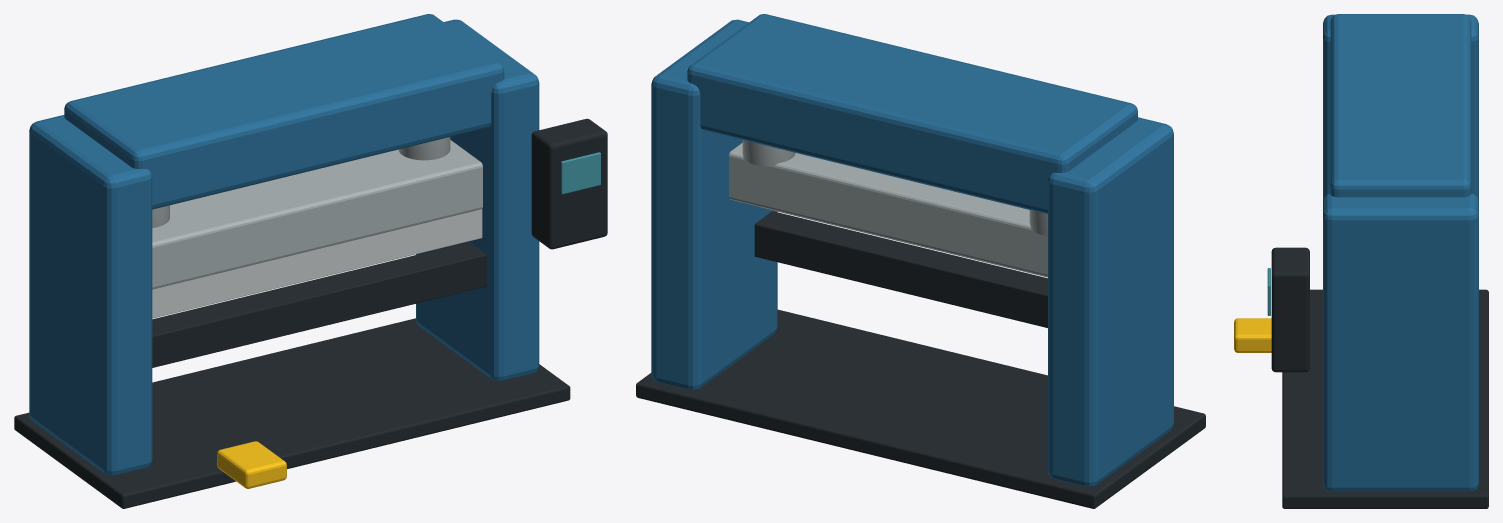
Rendered from cnc_press_brake.glb.
3 views of the same model, side by side, from view 1: azimuth 30°, elevation 25°; view 2: azimuth 150°, elevation 25°; view 3: azimuth 270°, elevation 25° (orthographic). The views are drawn at different scales.
Visible parts, largest first — view 1: UPPER_BEAM, MACHINE_BASE, LEFT_SIDE_FRAME, KIN_PRESS_BEAM, RIGHT_SIDE_FRAME, LOWER_DIE, UPPER_PUNCH, CNC_CONTROL, FOOT_PEDAL, CNC_SCREEN, HYDRAULIC_CYLINDER_1.0; view 2: UPPER_BEAM, MACHINE_BASE, LEFT_SIDE_FRAME, RIGHT_SIDE_FRAME, KIN_PRESS_BEAM, LOWER_DIE, HYDRAULIC_CYLINDER_1.0; view 3: RIGHT_SIDE_FRAME, UPPER_BEAM, MACHINE_BASE, CNC_CONTROL, LEFT_SIDE_FRAME, FOOT_PEDAL.
Boxes of the visible parts, x1=… form: UPPER_BEAM: x1=64, y1=14, x2=504, y2=209; MACHINE_BASE: x1=14, y1=318, x2=570, y2=508; LEFT_SIDE_FRAME: x1=29, y1=115, x2=152, y2=475; KIN_PRESS_BEAM: x1=152, y1=140, x2=482, y2=289; RIGHT_SIDE_FRAME: x1=416, y1=19, x2=539, y2=381; LOWER_DIE: x1=152, y1=242, x2=486, y2=367; UPPER_PUNCH: x1=152, y1=209, x2=482, y2=318; CNC_CONTROL: x1=531, y1=118, x2=607, y2=249; FOOT_PEDAL: x1=217, y1=441, x2=286, y2=488; CNC_SCREEN: x1=561, y1=152, x2=600, y2=194; HYDRAULIC_CYLINDER_1.0: x1=398, y1=137, x2=450, y2=160; UPPER_BEAM: x1=687, y1=14, x2=1137, y2=214; MACHINE_BASE: x1=636, y1=309, x2=1205, y2=508; LEFT_SIDE_FRAME: x1=1048, y1=117, x2=1173, y2=486; RIGHT_SIDE_FRAME: x1=651, y1=19, x2=777, y2=390; KIN_PRESS_BEAM: x1=729, y1=143, x2=1047, y2=276; LOWER_DIE: x1=754, y1=211, x2=1047, y2=327; HYDRAULIC_CYLINDER_1.0: x1=742, y1=140, x2=795, y2=166; RIGHT_SIDE_FRAME: x1=1323, y1=193, x2=1478, y2=491; UPPER_BEAM: x1=1330, y1=14, x2=1471, y2=197; MACHINE_BASE: x1=1282, y1=289, x2=1488, y2=508; CNC_CONTROL: x1=1271, y1=247, x2=1309, y2=372; LEFT_SIDE_FRAME: x1=1323, y1=14, x2=1478, y2=201; FOOT_PEDAL: x1=1234, y1=318, x2=1271, y2=352.
Size of the model in its own units: 3.43 by 2.23 by 1.67.
